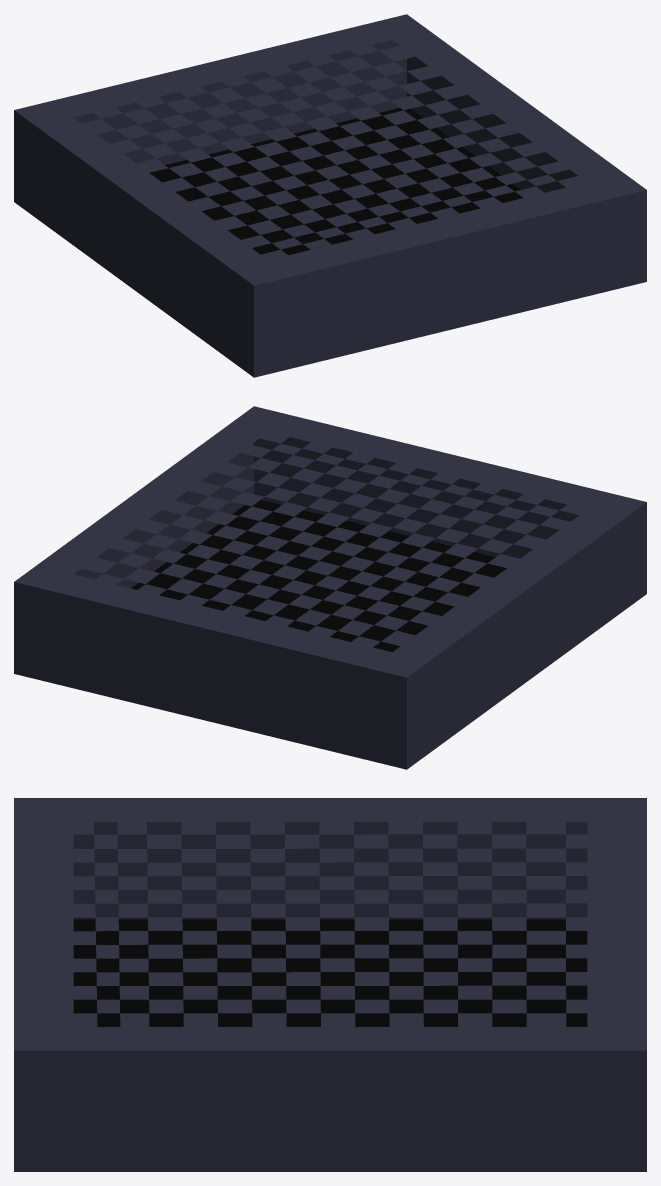
Rendered from Vapor.fbx.
3 views of the same model, one above another, from view 1: azimuth 30°, elevation 25°; view 2: azimuth 150°, elevation 25°; view 3: azimuth 270°, elevation 25° (orthographic). The views are drawn at different scales.
Visible parts, largest first — view 1: Cube; view 2: Cube; view 3: Cube.
Part boxes in pixels (x1,y1,x2,y2): Cube: (14, 14, 646, 377); Cube: (14, 406, 646, 769); Cube: (14, 798, 646, 1171).
Bounding box in the file's own units: 390 × 87.18 × 413.
